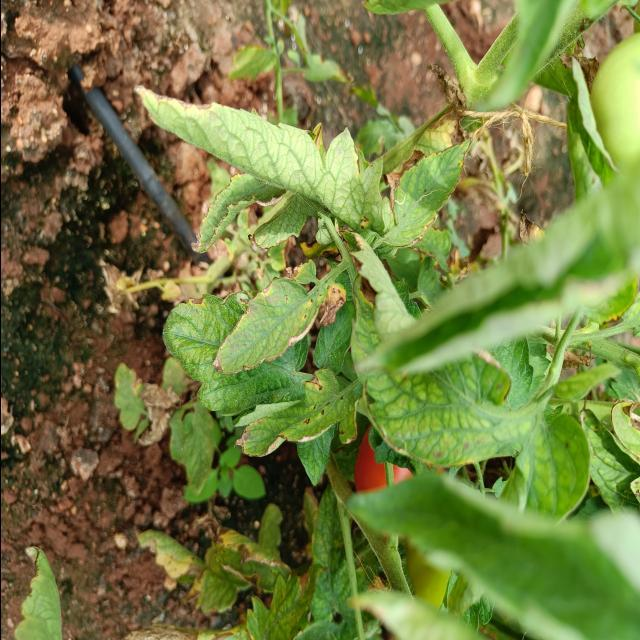Tomato mosaic virus leaf: (210, 257, 346, 377), (232, 363, 362, 461)
